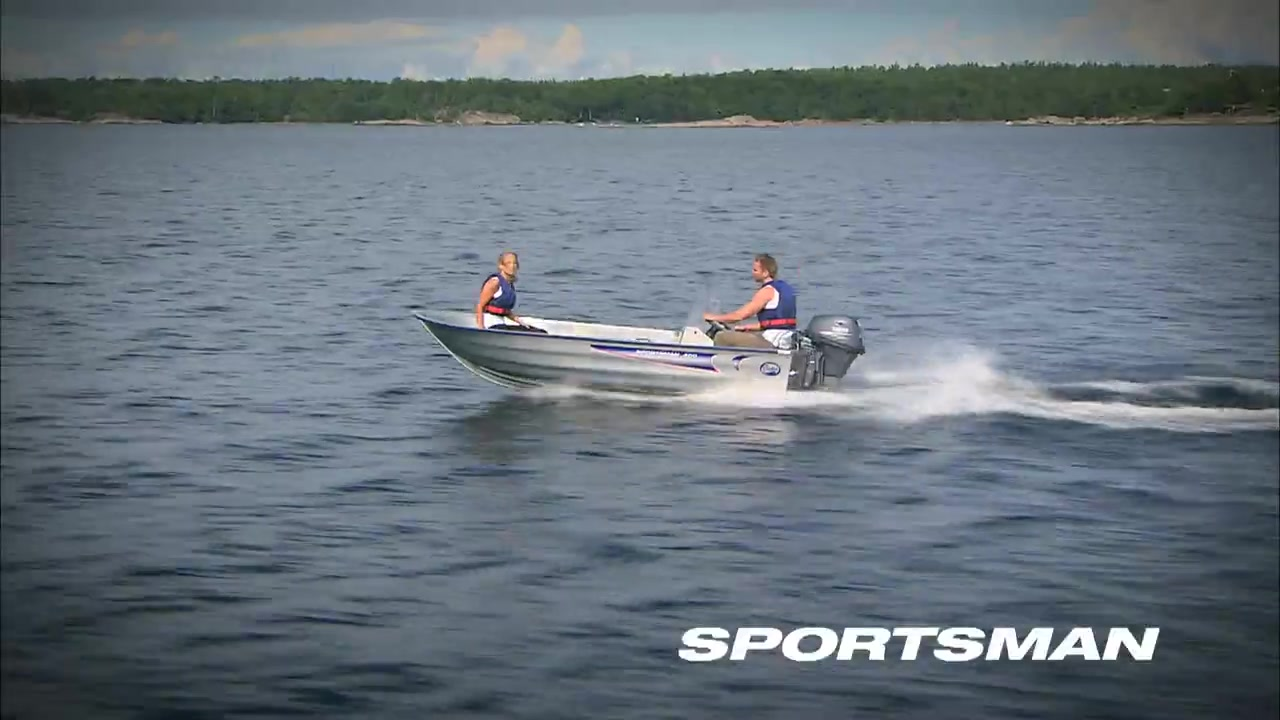boat: (413, 304, 869, 395)
